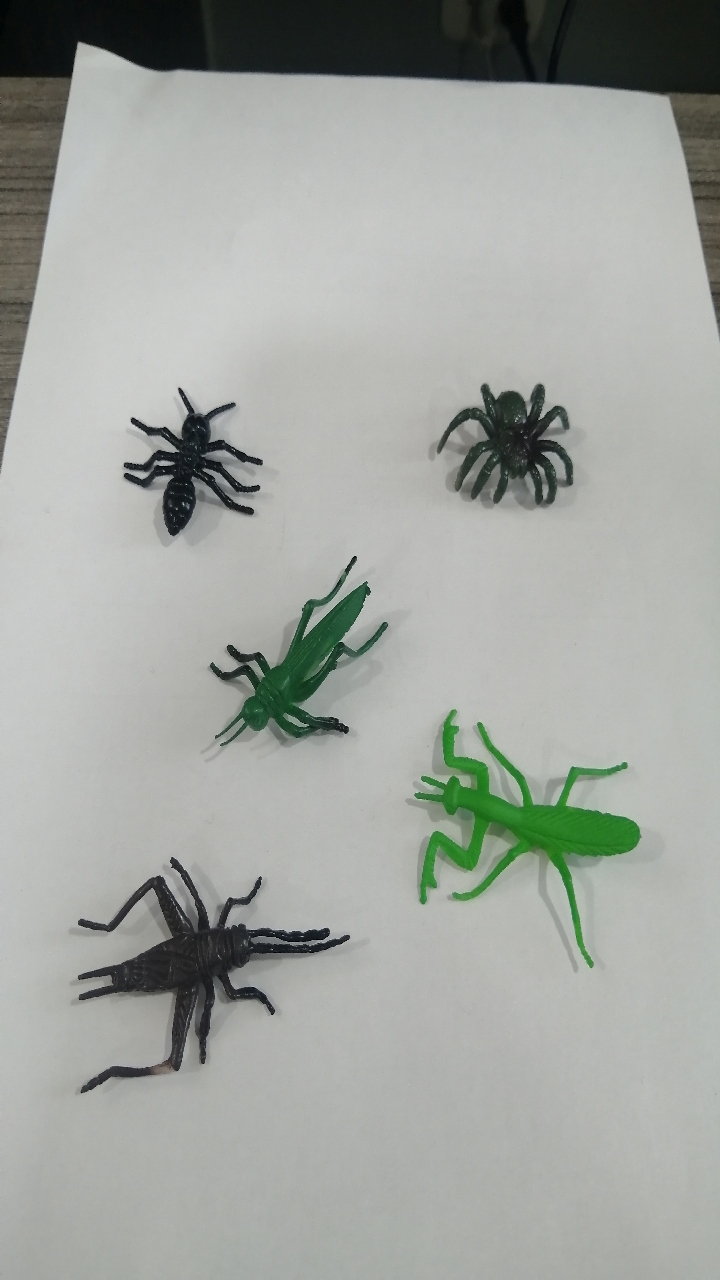intruso: (35, 843, 368, 1129), (381, 694, 652, 982), (175, 546, 406, 765), (78, 377, 289, 563), (418, 359, 591, 546)
